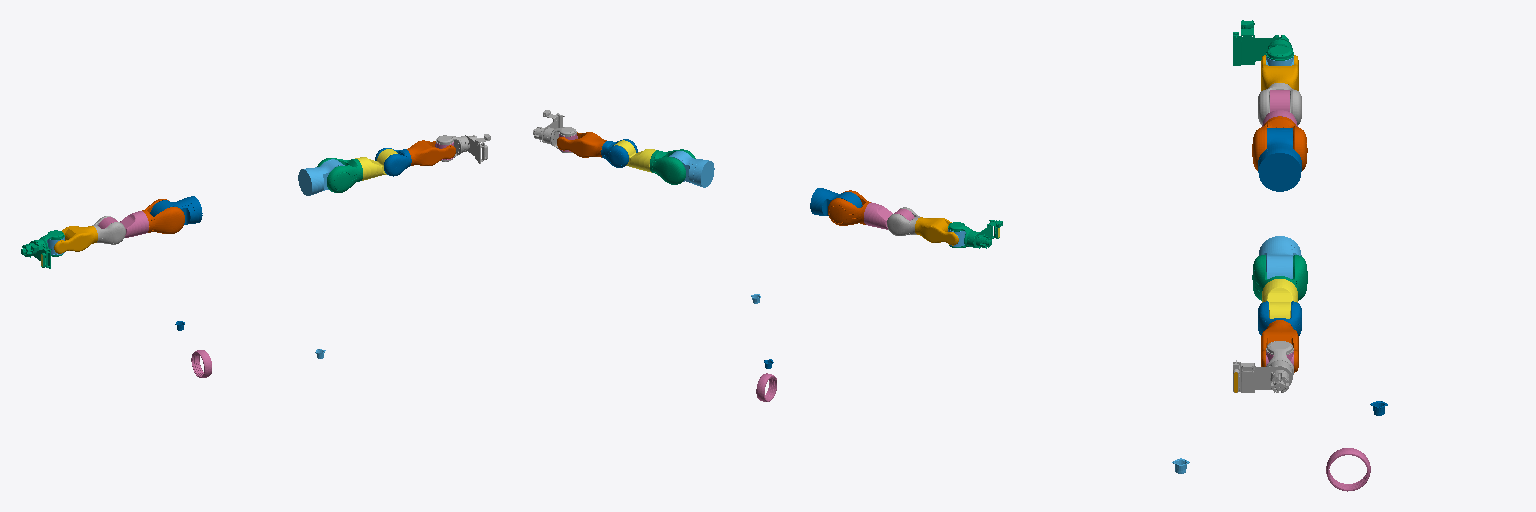
robot.urdf — my_robot:
<?xml version="1.0"?>
<!--
  Robot: my_robot
  Generated by: LinkForge v1.4.4
  https://github.com/arounamounchili/linkforge
  Date: 2026-08-19 11:10:16
-->
<robot name="my_robot">
  <!-- Links -->
  <link name="body">
    <inertial>
      <origin xyz="0.001633 -0.0001 0.228446" rpy="0 0 0" />
      <mass value="100" />
      <inertia ixx="16.666667" ixy="0" ixz="0" iyy="16.666667" iyz="0" izz="16.666667" />
    </inertial>
    <visual>
      <origin xyz="0.001631 -0.000036 0.228708" rpy="0 0 0" />
      <geometry>
        <mesh filename="meshes\body_visual.stl" />
      </geometry>
    </visual>
    <collision>
      <origin xyz="0.001633 -0.0001 0.228446" rpy="0 0 0" />
      <geometry>
        <mesh filename="meshes\body_collision.stl" />
      </geometry>
    </collision>
  </link>
  <link name="l_arm_0">
    <inertial>
      <origin xyz="-0.000118 0.000078 -0.133372" rpy="0 0 0" />
      <mass value="1" />
      <inertia ixx="0.166667" ixy="0" ixz="0" iyy="0.166667" iyz="0" izz="0.166667" />
    </inertial>
    <visual>
      <origin xyz="-0.000004 0.000048 -0.133262" rpy="0 0 0" />
      <geometry>
        <mesh filename="meshes\l_arm_0_visual.stl" />
      </geometry>
    </visual>
    <collision>
      <origin xyz="-0.000118 0.000078 -0.133372" rpy="0 0 0" />
      <geometry>
        <mesh filename="meshes\l_arm_0_collision.stl" />
      </geometry>
    </collision>
  </link>
  <link name="l_arm_1">
    <inertial>
      <origin xyz="0.000233 -0.046058 -0.034064" rpy="0 0 0" />
      <mass value="1" />
      <inertia ixx="0.166667" ixy="0" ixz="0" iyy="0.166667" iyz="0" izz="0.166667" />
    </inertial>
    <visual>
      <origin xyz="0 -0.046173 -0.034034" rpy="0 0 0" />
      <geometry>
        <mesh filename="meshes\l_arm_1_visual.stl" />
      </geometry>
    </visual>
    <collision>
      <origin xyz="0.000233 -0.046058 -0.034064" rpy="0 0 0" />
      <geometry>
        <mesh filename="meshes\l_arm_1_collision.stl" />
      </geometry>
    </collision>
  </link>
  <link name="l_arm_2">
    <inertial>
      <origin xyz="0.000237 0.000099 -0.137353" rpy="0 0 0" />
      <mass value="1" />
      <inertia ixx="0.166667" ixy="0" ixz="0" iyy="0.166667" iyz="0" izz="0.166667" />
    </inertial>
    <visual>
      <origin xyz="0.000028 0.000072 -0.13729" rpy="0 0 0" />
      <geometry>
        <mesh filename="meshes\l_arm_2_visual.stl" />
      </geometry>
    </visual>
    <collision>
      <origin xyz="0.000237 0.000099 -0.137353" rpy="0 0 0" />
      <geometry>
        <mesh filename="meshes\l_arm_2_collision.stl" />
      </geometry>
    </collision>
  </link>
  <link name="l_arm_3">
    <inertial>
      <origin xyz="-0.000061 0.00028 -0.021179" rpy="0 0 0" />
      <mass value="1" />
      <inertia ixx="0.166667" ixy="0" ixz="0" iyy="0.166667" iyz="0" izz="0.166667" />
    </inertial>
    <visual>
      <origin xyz="-0.000061 0.000282 -0.021179" rpy="0 0 0" />
      <geometry>
        <mesh filename="meshes\l_arm_3_visual.stl" />
      </geometry>
    </visual>
    <collision>
      <origin xyz="-0.000061 0.00028 -0.021179" rpy="0 0 0" />
      <geometry>
        <mesh filename="meshes\l_arm_3_collision.stl" />
      </geometry>
    </collision>
  </link>
  <link name="l_arm_4">
    <inertial>
      <origin xyz="-0.000096 0.000007 -0.141098" rpy="0 0 0" />
      <mass value="1" />
      <inertia ixx="0.166667" ixy="0" ixz="0" iyy="0.166667" iyz="0" izz="0.166667" />
    </inertial>
    <visual>
      <origin xyz="0 0 -0.141006" rpy="0 0 0" />
      <geometry>
        <mesh filename="meshes\l_arm_4_visual.stl" />
      </geometry>
    </visual>
    <collision>
      <origin xyz="-0.000096 0.000007 -0.141098" rpy="0 0 0" />
      <geometry>
        <mesh filename="meshes\l_arm_4_collision.stl" />
      </geometry>
    </collision>
  </link>
  <link name="l_arm_5">
    <inertial>
      <origin xyz="-0.003592 -0.000659 -0.000149" rpy="0 0 0" />
      <mass value="1" />
      <inertia ixx="0.166667" ixy="0" ixz="0" iyy="0.166667" iyz="0" izz="0.166667" />
    </inertial>
    <visual>
      <origin xyz="-0.00375 -0.000614 -0.000002" rpy="0 0 0" />
      <geometry>
        <mesh filename="meshes\l_arm_5_visual.stl" />
      </geometry>
    </visual>
    <collision>
      <origin xyz="-0.003592 -0.000659 -0.000149" rpy="0 0 0" />
      <geometry>
        <mesh filename="meshes\l_arm_5_collision.stl" />
      </geometry>
    </collision>
  </link>
  <link name="l_arm_6">
    <inertial>
      <origin xyz="0.011808 0.059005 0.084811" rpy="0 0 0" />
      <mass value="1" />
      <inertia ixx="0.166667" ixy="0" ixz="0" iyy="0.166667" iyz="0" izz="0.166667" />
    </inertial>
    <visual>
      <origin xyz="0.011866 0.058917 0.084696" rpy="0 0 0" />
      <geometry>
        <mesh filename="meshes\l_arm_6_visual.stl" />
      </geometry>
    </visual>
    <collision>
      <origin xyz="0.011808 0.059005 0.084811" rpy="0 0 0" />
      <geometry>
        <mesh filename="meshes\l_arm_6_collision.stl" />
      </geometry>
    </collision>
  </link>
  <link name="l_camera">
    <inertial>
      <origin xyz="0 0 0" rpy="0 0 0" />
      <mass value="0.01" />
      <inertia ixx="0.000001" ixy="0" ixz="0" iyy="0.000001" iyz="0" izz="0.000001" />
    </inertial>
    <visual>
      <origin xyz="-0.000001 0 0" rpy="0 0 0" />
      <geometry>
        <mesh filename="meshes\l_camera_visual.stl" />
      </geometry>
    </visual>
    <collision>
      <origin xyz="0 0 0" rpy="0 0 0" />
      <geometry>
        <mesh filename="meshes\l_camera_collision.stl" />
      </geometry>
    </collision>
  </link>
  <link name="l_laser">
    <inertial>
      <origin xyz="-0.001672 -0.000542 0.003292" rpy="0 0 0" />
      <mass value="0.2" />
      <inertia ixx="0.033333" ixy="0" ixz="0" iyy="0.033333" iyz="0" izz="0.033333" />
    </inertial>
    <visual>
      <origin xyz="-0.001516 0.000086 0.003263" rpy="0 0 0" />
      <geometry>
        <mesh filename="meshes\l_laser_visual.stl" />
      </geometry>
    </visual>
    <collision>
      <origin xyz="-0.001672 -0.000542 0.003292" rpy="0 0 0" />
      <geometry>
        <mesh filename="meshes\l_laser_collision.stl" />
      </geometry>
    </collision>
  </link>
  <link name="l_wheel_0">
    <inertial>
      <origin xyz="0.000896 0.00093 0.000102" rpy="0 0 0" />
      <mass value="0.5" />
      <inertia ixx="0.083333" ixy="0" ixz="0" iyy="0.083333" iyz="0" izz="0.083333" />
    </inertial>
    <visual>
      <origin xyz="0 0 0" rpy="0 0 0" />
      <geometry>
        <mesh filename="meshes\l_wheel_0_visual.stl" />
      </geometry>
    </visual>
    <collision>
      <origin xyz="0.000896 0.00093 0.000102" rpy="0 0 0" />
      <geometry>
        <mesh filename="meshes\l_wheel_0_collision.stl" />
      </geometry>
    </collision>
  </link>
  <link name="l_wheel_1">
    <inertial>
      <origin xyz="0.000896 0.00093 0.000102" rpy="0 0 0" />
      <mass value="0.5" />
      <inertia ixx="0.083333" ixy="0" ixz="0" iyy="0.083333" iyz="0" izz="0.083333" />
    </inertial>
    <visual>
      <origin xyz="0 0 0" rpy="0 0 0" />
      <geometry>
        <mesh filename="meshes\l_wheel_1_visual.stl" />
      </geometry>
    </visual>
    <collision>
      <origin xyz="0.000896 0.00093 0.000102" rpy="0 0 0" />
      <geometry>
        <mesh filename="meshes\l_wheel_1_collision.stl" />
      </geometry>
    </collision>
  </link>
  <link name="r_arm_0">
    <inertial>
      <origin xyz="-0.000118 0.000078 -0.133372" rpy="0 0 0" />
      <mass value="1" />
      <inertia ixx="0.166667" ixy="0" ixz="0" iyy="0.166667" iyz="0" izz="0.166667" />
    </inertial>
    <visual>
      <origin xyz="-0.000004 0.000048 -0.133262" rpy="0 0 0" />
      <geometry>
        <mesh filename="meshes\r_arm_0_visual.stl" />
      </geometry>
    </visual>
    <collision>
      <origin xyz="-0.000118 0.000078 -0.133372" rpy="0 0 0" />
      <geometry>
        <mesh filename="meshes\r_arm_0_collision.stl" />
      </geometry>
    </collision>
  </link>
  <link name="r_arm_1">
    <inertial>
      <origin xyz="0.000233 -0.046058 -0.033951" rpy="0 0 0" />
      <mass value="1" />
      <inertia ixx="0.166667" ixy="0" ixz="0" iyy="0.166667" iyz="0" izz="0.166667" />
    </inertial>
    <visual>
      <origin xyz="0 -0.046173 -0.034034" rpy="0 0 0" />
      <geometry>
        <mesh filename="meshes\r_arm_1_visual.stl" />
      </geometry>
    </visual>
    <collision>
      <origin xyz="0.000233 -0.046058 -0.033951" rpy="0 0 0" />
      <geometry>
        <mesh filename="meshes\r_arm_1_collision.stl" />
      </geometry>
    </collision>
  </link>
  <link name="r_arm_2">
    <inertial>
      <origin xyz="0.000237 0.000099 -0.137353" rpy="0 0 0" />
      <mass value="1" />
      <inertia ixx="0.166667" ixy="0" ixz="0" iyy="0.166667" iyz="0" izz="0.166667" />
    </inertial>
    <visual>
      <origin xyz="0.000028 0.000072 -0.13729" rpy="0 0 0" />
      <geometry>
        <mesh filename="meshes\r_arm_2_visual.stl" />
      </geometry>
    </visual>
    <collision>
      <origin xyz="0.000237 0.000099 -0.137353" rpy="0 0 0" />
      <geometry>
        <mesh filename="meshes\r_arm_2_collision.stl" />
      </geometry>
    </collision>
  </link>
  <link name="r_arm_3">
    <inertial>
      <origin xyz="-0.000061 0.000281 -0.021119" rpy="0 0 0" />
      <mass value="1" />
      <inertia ixx="0.166667" ixy="0" ixz="0" iyy="0.166667" iyz="0" izz="0.166667" />
    </inertial>
    <visual>
      <origin xyz="-0.000061 0.000282 -0.021118" rpy="0 0 0" />
      <geometry>
        <mesh filename="meshes\r_arm_3_visual.stl" />
      </geometry>
    </visual>
    <collision>
      <origin xyz="-0.000061 0.000281 -0.021119" rpy="0 0 0" />
      <geometry>
        <mesh filename="meshes\r_arm_3_collision.stl" />
      </geometry>
    </collision>
  </link>
  <link name="r_arm_4">
    <inertial>
      <origin xyz="-0.000096 0.000007 -0.141098" rpy="0 0 0" />
      <mass value="1" />
      <inertia ixx="0.166667" ixy="0" ixz="0" iyy="0.166667" iyz="0" izz="0.166667" />
    </inertial>
    <visual>
      <origin xyz="0 0 -0.141006" rpy="0 0 0" />
      <geometry>
        <mesh filename="meshes\r_arm_4_visual.stl" />
      </geometry>
    </visual>
    <collision>
      <origin xyz="-0.000096 0.000007 -0.141098" rpy="0 0 0" />
      <geometry>
        <mesh filename="meshes\r_arm_4_collision.stl" />
      </geometry>
    </collision>
  </link>
  <link name="r_arm_5">
    <inertial>
      <origin xyz="-0.003592 -0.000659 -0.000149" rpy="0 0 0" />
      <mass value="1" />
      <inertia ixx="0.166667" ixy="0" ixz="0" iyy="0.166667" iyz="0" izz="0.166667" />
    </inertial>
    <visual>
      <origin xyz="-0.00375 -0.000614 -0.000002" rpy="0 0 0" />
      <geometry>
        <mesh filename="meshes\r_arm_5_visual.stl" />
      </geometry>
    </visual>
    <collision>
      <origin xyz="-0.003592 -0.000659 -0.000149" rpy="0 0 0" />
      <geometry>
        <mesh filename="meshes\r_arm_5_collision.stl" />
      </geometry>
    </collision>
  </link>
  <link name="r_arm_6">
    <inertial>
      <origin xyz="0.011755 0.058875 -0.084762" rpy="0 0 0" />
      <mass value="1" />
      <inertia ixx="0.166667" ixy="0" ixz="0" iyy="0.166667" iyz="0" izz="0.166667" />
    </inertial>
    <visual>
      <origin xyz="0.011866 0.058802 -0.084696" rpy="0 0 0" />
      <geometry>
        <mesh filename="meshes\r_arm_6_visual.stl" />
      </geometry>
    </visual>
    <collision>
      <origin xyz="0.011755 0.058875 -0.084762" rpy="0 0 0" />
      <geometry>
        <mesh filename="meshes\r_arm_6_collision.stl" />
      </geometry>
    </collision>
  </link>
  <link name="r_camera">
    <inertial>
      <origin xyz="0 0 0" rpy="0 0 0" />
      <mass value="0.01" />
      <inertia ixx="0.000001" ixy="0" ixz="0" iyy="0.000001" iyz="0" izz="0.000001" />
    </inertial>
    <visual>
      <origin xyz="0 0 0" rpy="0 0 0" />
      <geometry>
        <mesh filename="meshes\r_camera_visual.stl" />
      </geometry>
    </visual>
    <collision>
      <origin xyz="0 0 0" rpy="0 0 0" />
      <geometry>
        <mesh filename="meshes\r_camera_collision.stl" />
      </geometry>
    </collision>
  </link>
  <link name="r_laser">
    <inertial>
      <origin xyz="-0.001133 0.001011 -0.003373" rpy="0 0 0" />
      <mass value="1" />
      <inertia ixx="0.166667" ixy="0" ixz="0" iyy="0.166667" iyz="0" izz="0.166667" />
    </inertial>
    <visual>
      <origin xyz="-0.001133 0.001011 -0.003264" rpy="0 0 0" />
      <geometry>
        <mesh filename="meshes\r_laser_visual.stl" />
      </geometry>
    </visual>
    <collision>
      <origin xyz="-0.001133 0.001011 -0.003373" rpy="0 0 0" />
      <geometry>
        <mesh filename="meshes\r_laser_collision.stl" />
      </geometry>
    </collision>
  </link>
  <link name="r_wheel_0">
    <inertial>
      <origin xyz="0.000896 0.00093 0.000102" rpy="0 0 0" />
      <mass value="0.5" />
      <inertia ixx="0.083333" ixy="0" ixz="0" iyy="0.083333" iyz="0" izz="0.083333" />
    </inertial>
    <visual>
      <origin xyz="0 0 0" rpy="0 0 0" />
      <geometry>
        <mesh filename="meshes\r_wheel_0_visual.stl" />
      </geometry>
    </visual>
    <collision>
      <origin xyz="0.000896 0.00093 0.000102" rpy="0 0 0" />
      <geometry>
        <mesh filename="meshes\r_wheel_0_collision.stl" />
      </geometry>
    </collision>
  </link>
  <link name="r_wheel_1">
    <inertial>
      <origin xyz="0.000896 0.00093 0.000102" rpy="0 0 0" />
      <mass value="1" />
      <inertia ixx="0.166667" ixy="0" ixz="0" iyy="0.166667" iyz="0" izz="0.166667" />
    </inertial>
    <visual>
      <origin xyz="0 0 0" rpy="0 0 0" />
      <geometry>
        <mesh filename="meshes\r_wheel_1_visual.stl" />
      </geometry>
    </visual>
    <collision>
      <origin xyz="0.000896 0.00093 0.000102" rpy="0 0 0" />
      <geometry>
        <mesh filename="meshes\r_wheel_1_collision.stl" />
      </geometry>
    </collision>
  </link>
  <!-- Joints -->
  <joint name="l_arm_0_joint" type="revolute">
    <origin xyz="0.353879 -0.003608 0.588076" rpy="0 -1.570796 0" />
    <parent link="body" />
    <child link="l_arm_0" />
    <axis xyz="0 0 1" />
    <limit effort="10" velocity="1" lower="-3.141593" upper="3.141593" />
  </joint>
  <joint name="l_arm_1_joint" type="revolute">
    <origin xyz="-0.000004 0.046447 -0.186762" rpy="0 0 0" />
    <parent link="l_arm_0" />
    <child link="l_arm_1" />
    <axis xyz="0 1 0" />
    <limit effort="10" velocity="1" lower="-3.141593" upper="3.141593" />
  </joint>
  <joint name="l_arm_2_joint" type="revolute">
    <origin xyz="-0.000027 -0.046495 -0.149211" rpy="0 0.000001 0" />
    <parent link="l_arm_1" />
    <child link="l_arm_2" />
    <axis xyz="0 0 1" />
    <limit effort="10" velocity="1" lower="-3.141593" upper="3.141593" />
  </joint>
  <joint name="l_arm_3_joint" type="revolute">
    <origin xyz="0.000167 -0.000274 -0.209639" rpy="0 0 0" />
    <parent link="l_arm_2" />
    <child link="l_arm_3" />
    <axis xyz="0 1 0" />
    <limit effort="10" velocity="1" lower="-3.141593" upper="3.141593" />
  </joint>
  <joint name="l_arm_4_joint" type="revolute">
    <origin xyz="-0.000139 0.000346 -0.109231" rpy="0 0 0" />
    <parent link="l_arm_3" />
    <child link="l_arm_4" />
    <axis xyz="0 0 1" />
    <limit effort="10" velocity="1" lower="-3.141593" upper="3.141593" />
  </joint>
  <joint name="l_arm_5_joint" type="revolute">
    <origin xyz="0 0.00062 -0.242595" rpy="0 0 0" />
    <parent link="l_arm_4" />
    <child link="l_arm_5" />
    <axis xyz="0 1 0" />
    <limit effort="10" velocity="1" lower="-3.141593" upper="3.141593" />
  </joint>
  <joint name="l_arm_6_joint" type="revolute">
    <origin xyz="-0.004013 -0.00058 0" rpy="3.141593 0 0" />
    <parent link="l_arm_5" />
    <child link="l_arm_6" />
    <axis xyz="1 0 0" />
    <limit effort="10" velocity="1" lower="-3.141593" upper="3.141593" />
  </joint>
  <joint name="l_camera_joint" type="fixed">
    <origin xyz="0.004026 0.156793 0.17894" rpy="-3.13956 1.570795 0" />
    <parent link="l_arm_6" />
    <child link="l_camera" />
  </joint>
  <joint name="l_laser_joint" type="fixed">
    <origin xyz="0.245498 -0.357591 -0.293528" rpy="0 -3.141593 -0.785398" />
    <parent link="body" />
    <child link="l_laser" />
  </joint>
  <joint name="l_wheel_0_joint" type="continuous">
    <origin xyz="0.171631 -0.248602 -0.501391" rpy="0 0 1.570796" />
    <parent link="body" />
    <child link="l_wheel_0" />
    <axis xyz="0 1 0" />
    <limit effort="10" velocity="1" lower="0" upper="0" />
  </joint>
  <joint name="l_wheel_1_joint" type="continuous">
    <origin xyz="0.171631 0.241398 -0.501391" rpy="0 0 1.570796" />
    <parent link="body" />
    <child link="l_wheel_1" />
    <axis xyz="0 1 0" />
    <limit effort="10" velocity="1" lower="0" upper="0" />
  </joint>
  <joint name="r_arm_0_joint" type="revolute">
    <origin xyz="-0.350618 -0.003596 0.588076" rpy="-3.141593 -1.570796 0" />
    <parent link="body" />
    <child link="r_arm_0" />
    <axis xyz="0 0 1" />
    <limit effort="10" velocity="1" lower="-3.141593" upper="3.141593" />
  </joint>
  <joint name="r_arm_1_joint" type="revolute">
    <origin xyz="-0.000004 0.046447 -0.186762" rpy="0 0 0" />
    <parent link="r_arm_0" />
    <child link="r_arm_1" />
    <axis xyz="0 1 0" />
    <limit effort="10" velocity="1" lower="-3.141593" upper="3.141593" />
  </joint>
  <joint name="r_arm_2_joint" type="revolute">
    <origin xyz="-0.000027 -0.046495 -0.149211" rpy="0 -0.000001 0" />
    <parent link="r_arm_1" />
    <child link="r_arm_2" />
    <axis xyz="0 0 1" />
    <limit effort="10" velocity="1" lower="-3.141593" upper="3.141593" />
  </joint>
  <joint name="r_arm_3_joint" type="revolute">
    <origin xyz="0.000167 -0.000274 -0.209639" rpy="0 0 0" />
    <parent link="r_arm_2" />
    <child link="r_arm_3" />
    <axis xyz="0 1 0" />
    <limit effort="10" velocity="1" lower="-3.141593" upper="3.141593" />
  </joint>
  <joint name="r_arm_4_joint" type="revolute">
    <origin xyz="-0.000139 0.000346 -0.109231" rpy="0 0 0" />
    <parent link="r_arm_3" />
    <child link="r_arm_4" />
    <axis xyz="0 0 1" />
    <limit effort="10" velocity="1" lower="-3.141593" upper="3.141593" />
  </joint>
  <joint name="r_arm_5_joint" type="revolute">
    <origin xyz="0 0.00062 -0.242595" rpy="0 0 0" />
    <parent link="r_arm_4" />
    <child link="r_arm_5" />
    <axis xyz="0 1 0" />
    <limit effort="10" velocity="1" lower="-3.141593" upper="3.141593" />
  </joint>
  <joint name="r_arm_6_joint" type="revolute">
    <origin xyz="-0.004013 -0.00058 0" rpy="0 0 0" />
    <parent link="r_arm_5" />
    <child link="r_arm_6" />
    <axis xyz="1 0 0" />
    <limit effort="10" velocity="1" lower="-3.141593" upper="3.141593" />
  </joint>
  <joint name="r_camera_joint" type="fixed">
    <origin xyz="0.004026 0.156678 -0.17894" rpy="-3.13956 1.570795 0" />
    <parent link="r_arm_6" />
    <child link="r_camera" />
  </joint>
  <joint name="r_laser_joint" type="fixed">
    <origin xyz="-0.242237 0.350388 -0.293528" rpy="0 0 0" />
    <parent link="body" />
    <child link="r_laser" />
  </joint>
  <joint name="r_wheel_0_joint" type="continuous">
    <origin xyz="-0.168369 -0.248602 -0.501391" rpy="0 0 -1.570796" />
    <parent link="body" />
    <child link="r_wheel_0" />
    <axis xyz="0 1 0" />
    <limit effort="10" velocity="1" lower="0" upper="0" />
  </joint>
  <joint name="r_wheel_1_joint" type="continuous">
    <origin xyz="-0.168369 0.241398 -0.501391" rpy="0 0 -1.570796" />
    <parent link="body" />
    <child link="r_wheel_1" />
    <axis xyz="0 1 0" />
    <limit effort="10" velocity="1" lower="0" upper="0" />
  </joint>
  <!-- Sensors -->
  <gazebo reference="l_camera">
    <sensor name="l_camera_sensor" type="depth_camera">
      <always_on>true</always_on>
      <update_rate>30</update_rate>
      <visualize>false</visualize>
      <pose>0.00163 0.00242 -0.581397 0 0 0</pose>
      <camera>
        <horizontal_fov>1.047</horizontal_fov>
        <image>
          <width>640</width>
          <height>480</height>
          <format>R8G8B8</format>
        </image>
        <clip>
          <near>0.1</near>
          <far>100</far>
        </clip>
      </camera>
      <depth_camera>
        <output>
          <type>depth</type>
        </output>
      </depth_camera>
    </sensor>
  </gazebo>
  <gazebo reference="l_laser">
    <sensor name="l_laser_sensor" type="lidar">
      <always_on>true</always_on>
      <update_rate>30</update_rate>
      <visualize>false</visualize>
      <pose>0.0037 0.001394 -0.581391 0 0 0</pose>
      <ray>
        <scan>
          <horizontal>
            <samples>640</samples>
            <resolution>1</resolution>
            <min_angle>-1.570796</min_angle>
            <max_angle>1.570796</max_angle>
          </horizontal>
        </scan>
        <range>
          <min>0.1</min>
          <max>10</max>
          <resolution>0.01</resolution>
        </range>
      </ray>
    </sensor>
  </gazebo>
  <gazebo reference="r_camera">
    <sensor name="r_camera_sensor" type="depth_camera">
      <always_on>true</always_on>
      <update_rate>30</update_rate>
      <visualize>false</visualize>
      <pose>0.00163 0.00242 -0.581397 0 0 0</pose>
      <camera>
        <horizontal_fov>1.047</horizontal_fov>
        <image>
          <width>640</width>
          <height>480</height>
          <format>R8G8B8</format>
        </image>
        <clip>
          <near>0.1</near>
          <far>100</far>
        </clip>
      </camera>
      <depth_camera>
        <output>
          <type>depth</type>
        </output>
      </depth_camera>
    </sensor>
  </gazebo>
  <gazebo reference="r_laser">
    <sensor name="r_laser_sensor" type="lidar">
      <always_on>true</always_on>
      <update_rate>30</update_rate>
      <visualize>false</visualize>
      <pose>-0.001631 0.003602 0.581391 0 0 0</pose>
      <ray>
        <scan>
          <horizontal>
            <samples>640</samples>
            <resolution>1</resolution>
            <min_angle>-1.570796</min_angle>
            <max_angle>1.570796</max_angle>
          </horizontal>
        </scan>
        <range>
          <min>0.1</min>
          <max>10</max>
          <resolution>0.01</resolution>
        </range>
      </ray>
    </sensor>
  </gazebo>
</robot>

--- What the picture shows (computed from the rendered views, not written in the file) ---
3 views of the same robot in one strip: view 1: azimuth 30°, elevation 25°; view 2: azimuth 150°, elevation 25°; view 3: azimuth 270°, elevation 25° (orthographic).
Robot: my_robot — 23 links, 22 joints (14 revolute, 4 continuous, 4 fixed); root link body; default pose: every joint at zero.
Visible links, largest first — view 1: l_arm_1, r_arm_1, l_arm_0, r_arm_4, l_arm_4, l_arm_6, r_arm_0, r_arm_6, r_arm_2, l_arm_3, l_arm_2, r_arm_3; view 2: l_arm_1, r_arm_1, l_arm_0, r_arm_4, l_arm_4, r_arm_6, l_arm_6, r_arm_0, r_arm_2, l_arm_3, l_arm_2, r_arm_3; view 3: r_arm_0, l_arm_6, r_arm_6, l_arm_0, r_arm_1, l_arm_1, l_arm_2, l_arm_4, r_arm_4, r_arm_3, r_wheel_1, l_arm_3 (+1 smaller).
Link boxes in pixels (box(x1,y1,x2,y2)): l_arm_1: box(317, 158, 362, 192); r_arm_1: box(142, 199, 184, 233); l_arm_0: box(298, 159, 344, 195); r_arm_4: box(54, 226, 97, 253); l_arm_4: box(407, 140, 455, 165); l_arm_6: box(436, 134, 490, 163); r_arm_0: box(150, 196, 202, 224); r_arm_6: box(21, 230, 64, 268); r_arm_2: box(98, 211, 148, 237); l_arm_3: box(375, 148, 411, 176); l_arm_2: box(355, 149, 397, 180); r_arm_3: box(92, 216, 125, 244); l_arm_1: box(650, 149, 695, 184); r_arm_1: box(828, 190, 870, 225); l_arm_0: box(669, 151, 714, 187); r_arm_4: box(915, 217, 958, 245); l_arm_4: box(557, 132, 606, 157); r_arm_6: box(948, 220, 1002, 248); l_arm_6: box(533, 110, 576, 152); r_arm_0: box(810, 188, 862, 215); r_arm_2: box(864, 202, 914, 229); l_arm_3: box(601, 139, 637, 167); l_arm_2: box(614, 140, 655, 172); r_arm_3: box(887, 207, 919, 235); r_arm_0: box(1258, 128, 1301, 191); l_arm_6: box(1233, 341, 1293, 392); r_arm_6: box(1233, 20, 1293, 65); l_arm_0: box(1259, 236, 1301, 278); r_arm_1: box(1252, 116, 1307, 170); l_arm_1: box(1252, 255, 1307, 300); l_arm_2: box(1262, 279, 1297, 318); l_arm_4: box(1261, 320, 1298, 372); r_arm_4: box(1261, 55, 1298, 90); r_arm_3: box(1258, 83, 1301, 124); r_wheel_1: box(1326, 448, 1370, 491); l_arm_3: box(1258, 301, 1301, 335).
Bounding box of the posed robot: 2.94 × 0.7725 × 1.25 m (x, y, z).
Meshes: 23 distinct files referenced, 19 mesh visuals loaded (19 binary STL); not drawn: 4 (reference not matched to a file when rendering).
